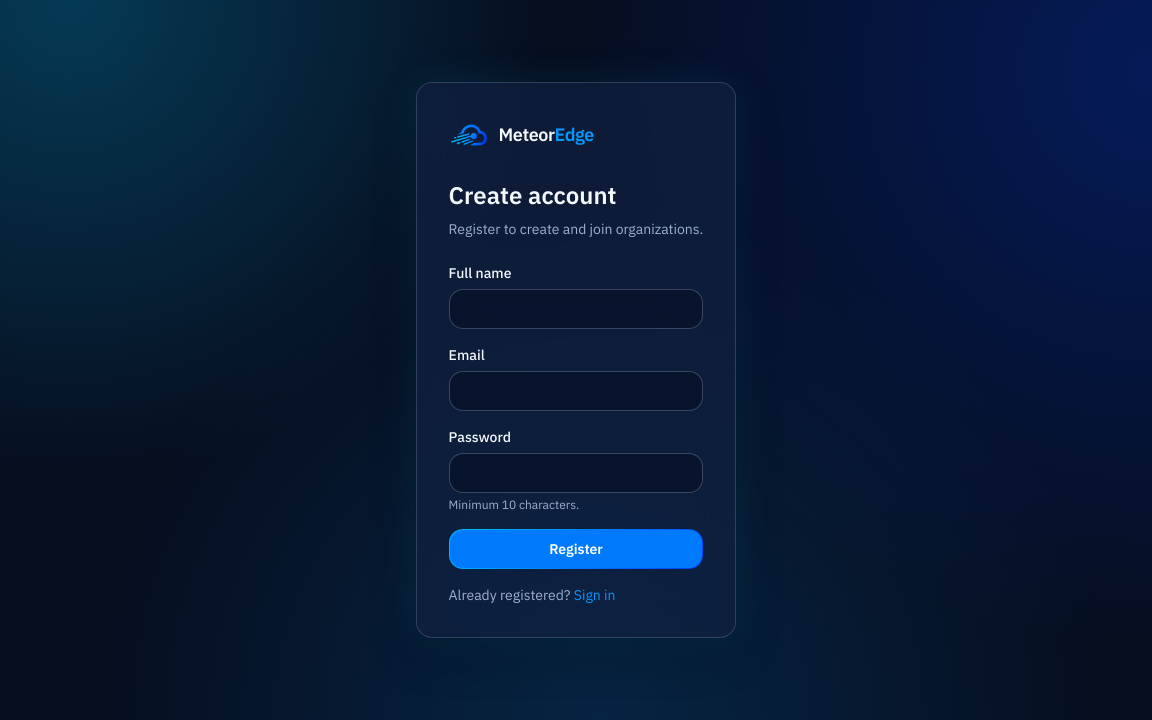
Test case: App shell and auth › validates registration password length
Type "Example Owner" into the field labelled "Full name" at [576, 309], box x1=449 y1=289 x2=703 y2=329
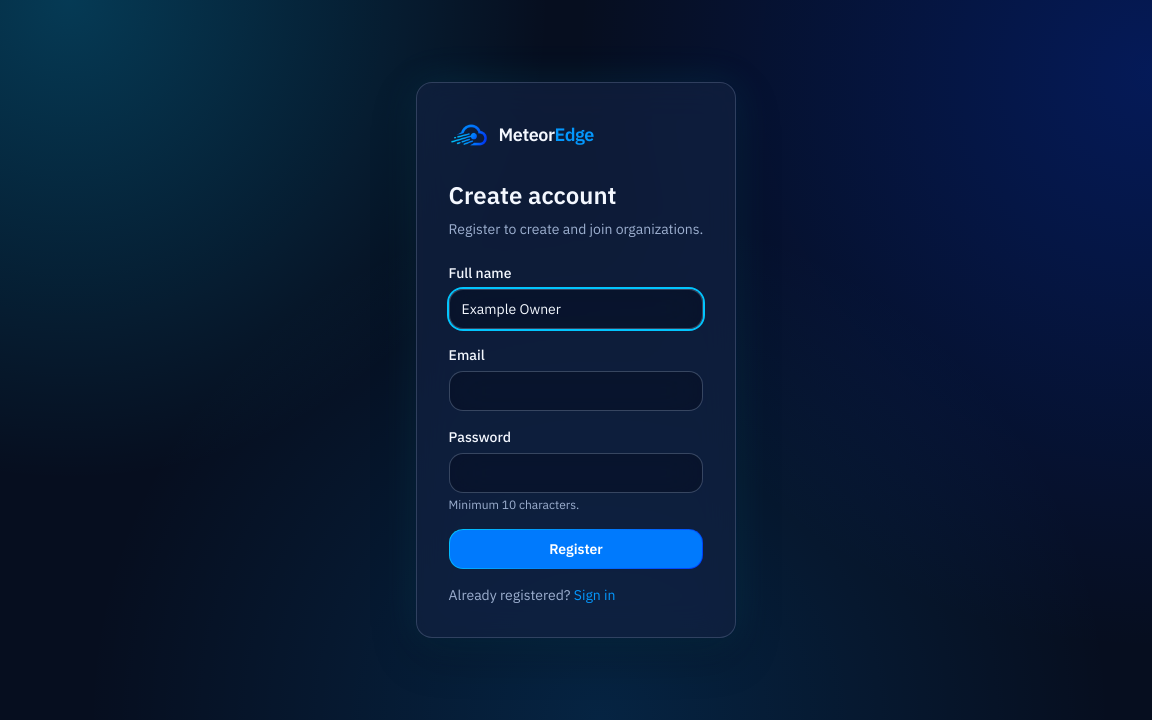
Type "owner@example.com" into the field labelled "Email" at [576, 391], box x1=449 y1=371 x2=703 y2=411
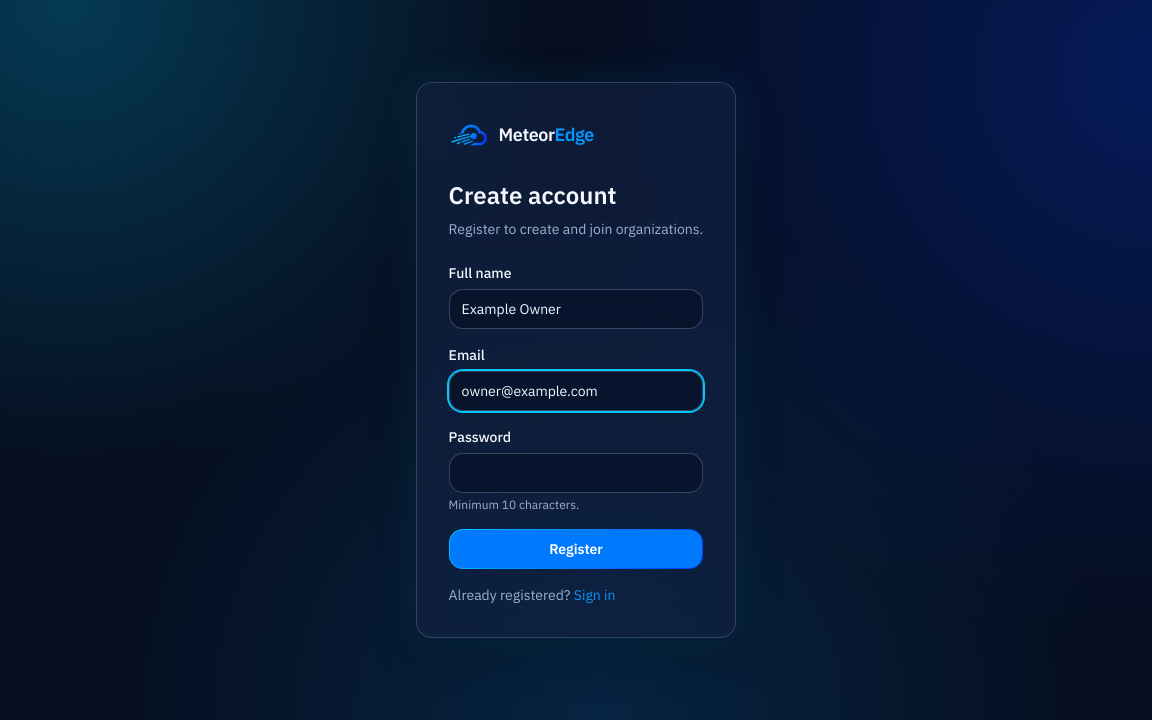
Type "short" into the password field labelled "Password" at [576, 473], box x1=449 y1=453 x2=703 y2=493
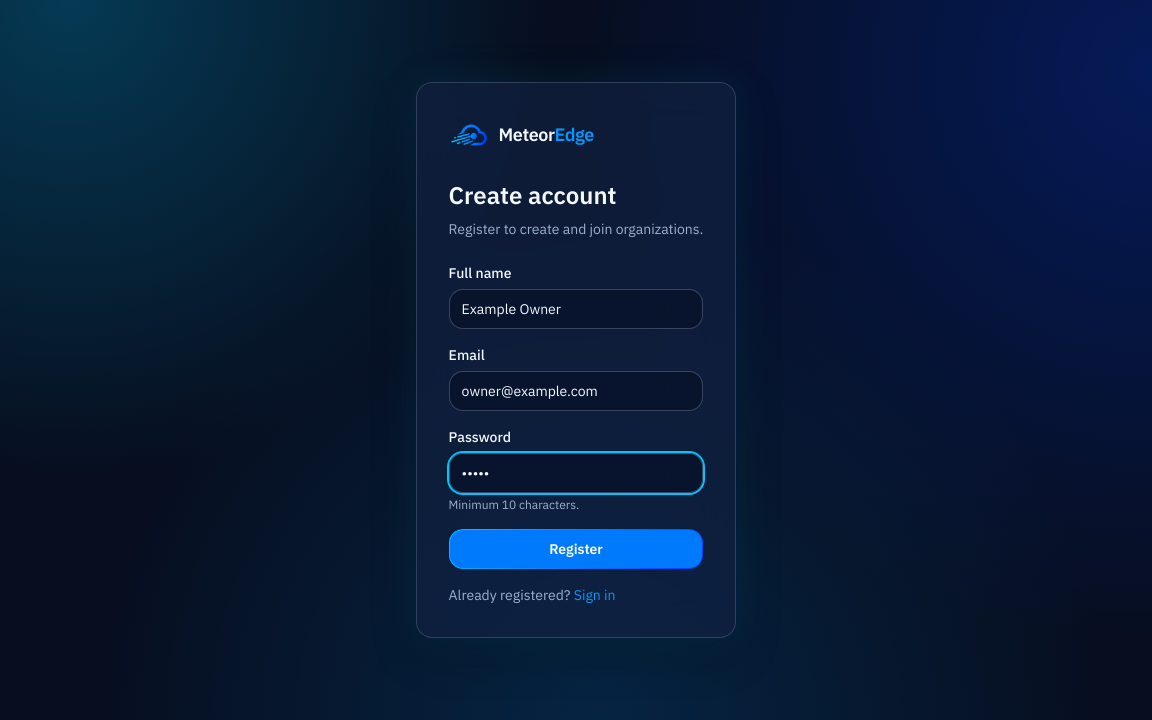
Click the button "Register" at [576, 549], box x1=449 y1=529 x2=703 y2=569
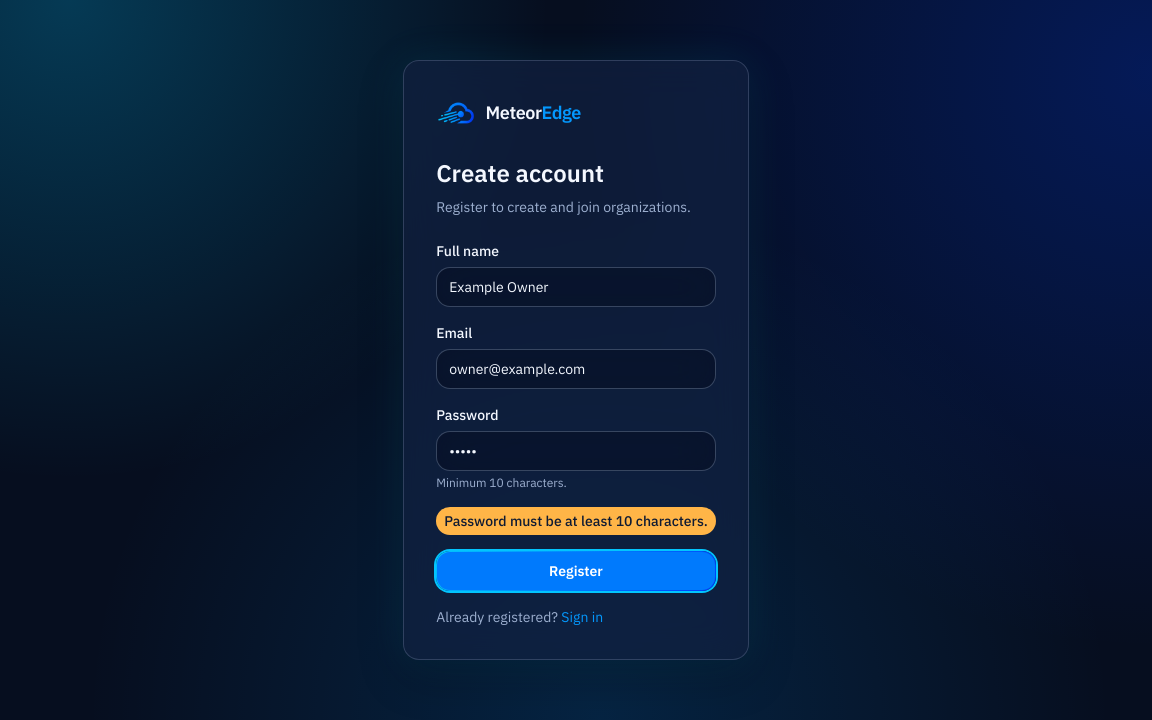
Now the text "Password must be at least 10 characters." is shown, box x1=436 y1=507 x2=716 y2=535
